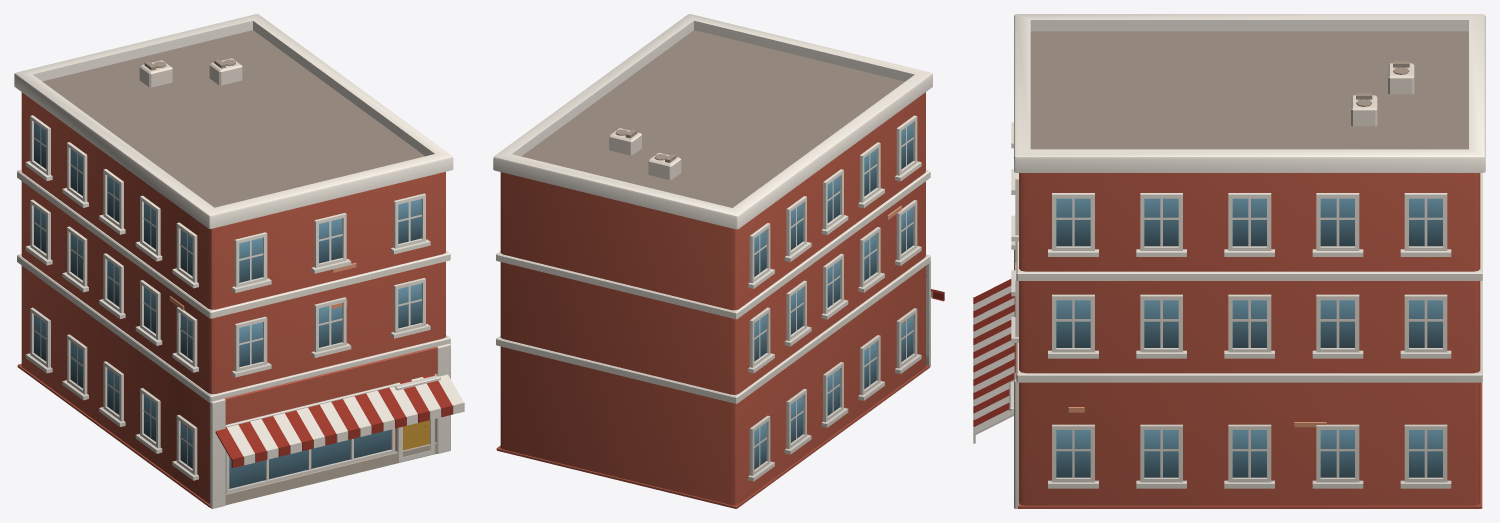
File: boylston_s10.glb
3 views of the same model, side by side, from view 1: azimuth 30°, elevation 25°; view 2: azimuth 150°, elevation 25°; view 3: azimuth 270°, elevation 25° (orthographic). The views are drawn at different scales.
Parts seen in each view (by area): view 1: boylston_s10; view 2: boylston_s10; view 3: boylston_s10.
Boxes of the visible parts, left/top/right/bottom form: boylston_s10: left=14, top=14, right=464, bottom=508; boylston_s10: left=493, top=14, right=944, bottom=508; boylston_s10: left=973, top=14, right=1485, bottom=508.
Bounding box in the file's own units: 10.48 × 12.19 × 15.55.
Materials: 1 (1 with a texture image).
